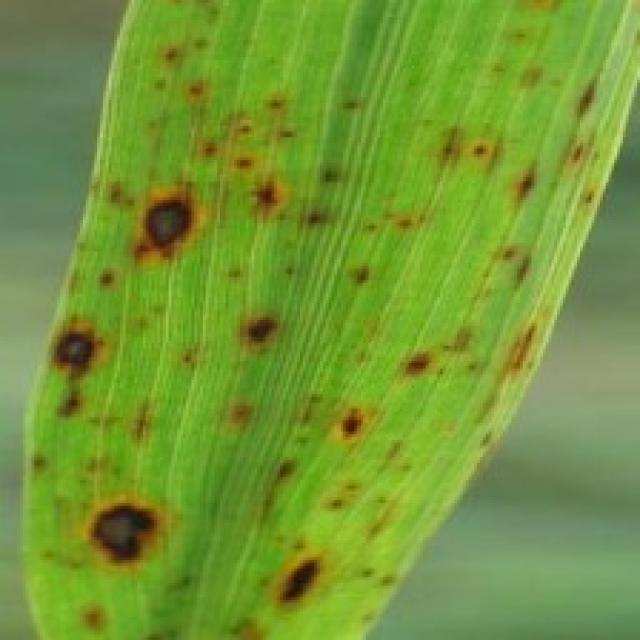Rice___Brown_Spot: (15, 0, 637, 637)
